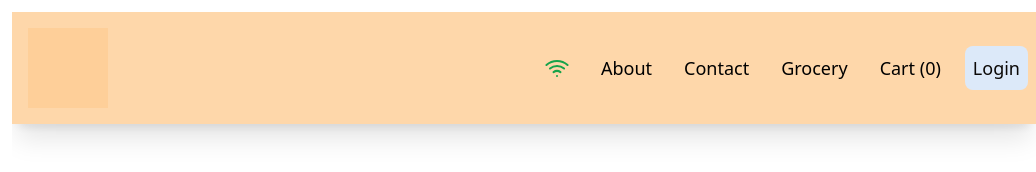
should Load The Header Component With Clicking login button and changes to logOut
Click the button "Login" at (996, 68), box [965, 46, 1028, 90]
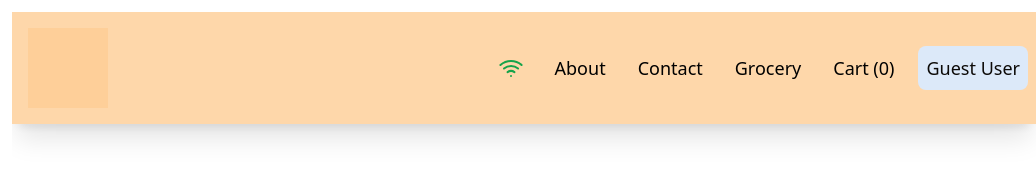
Expected: the button "Guest User" is shown, [918, 46, 1028, 90]
